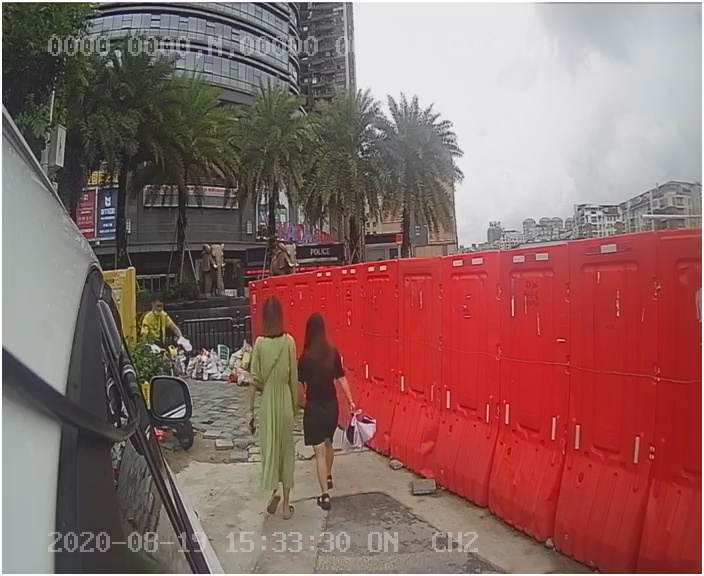person: (236, 297, 307, 524), (296, 311, 376, 509)
